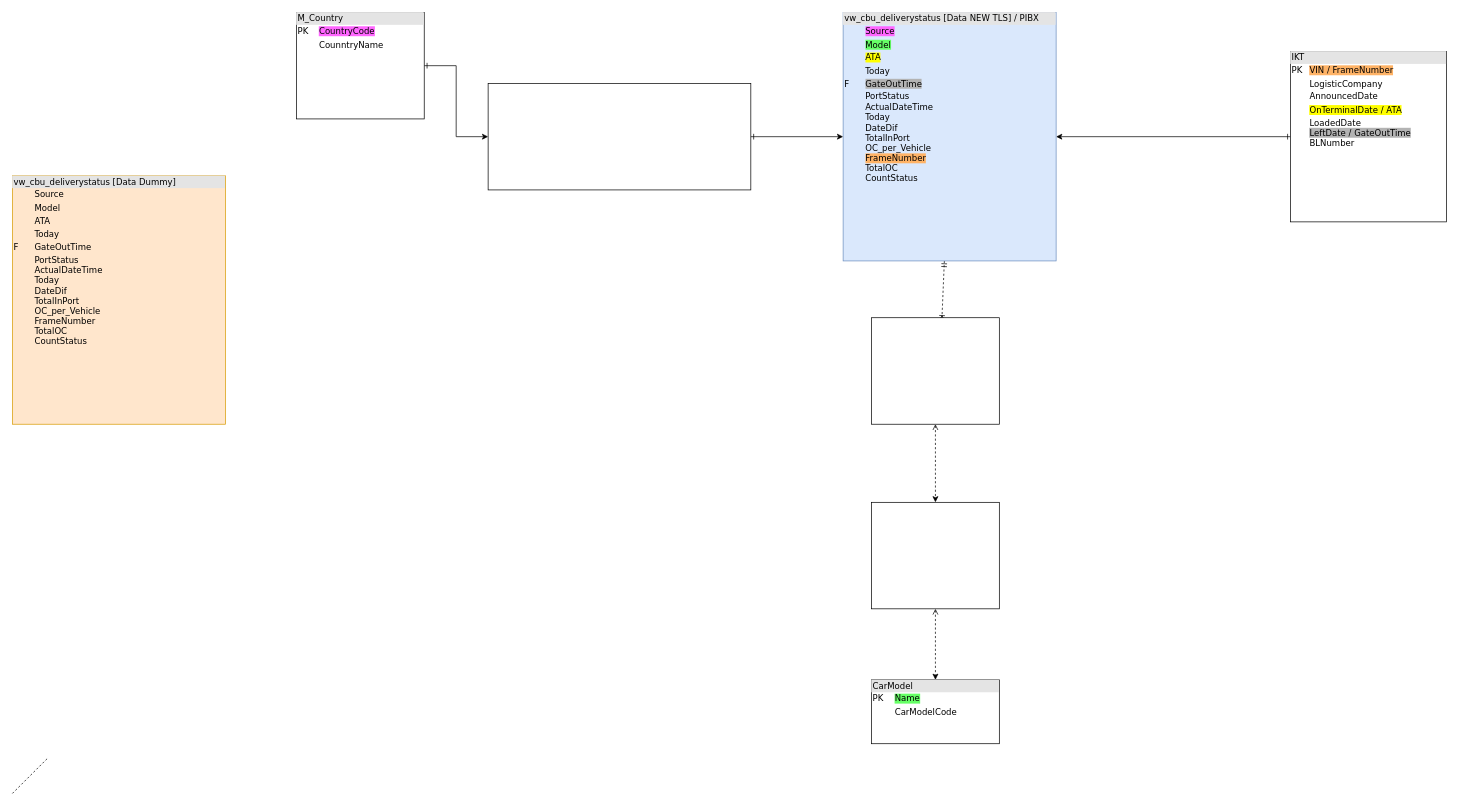
This 1459x807 diagram has some shape labels left out. Here are the shapes that lost their labels. From the top down, the centre of each, then its label:
At (619,136): "CBUInvoice PK FrameNumber InvoiceNumber".
At (935,370): "CarSeries PK Katashiki Name FK CarSeriesCode".
At (935,555): "CarSeries PK Name CarSeriesCode FK CarModelCode".
